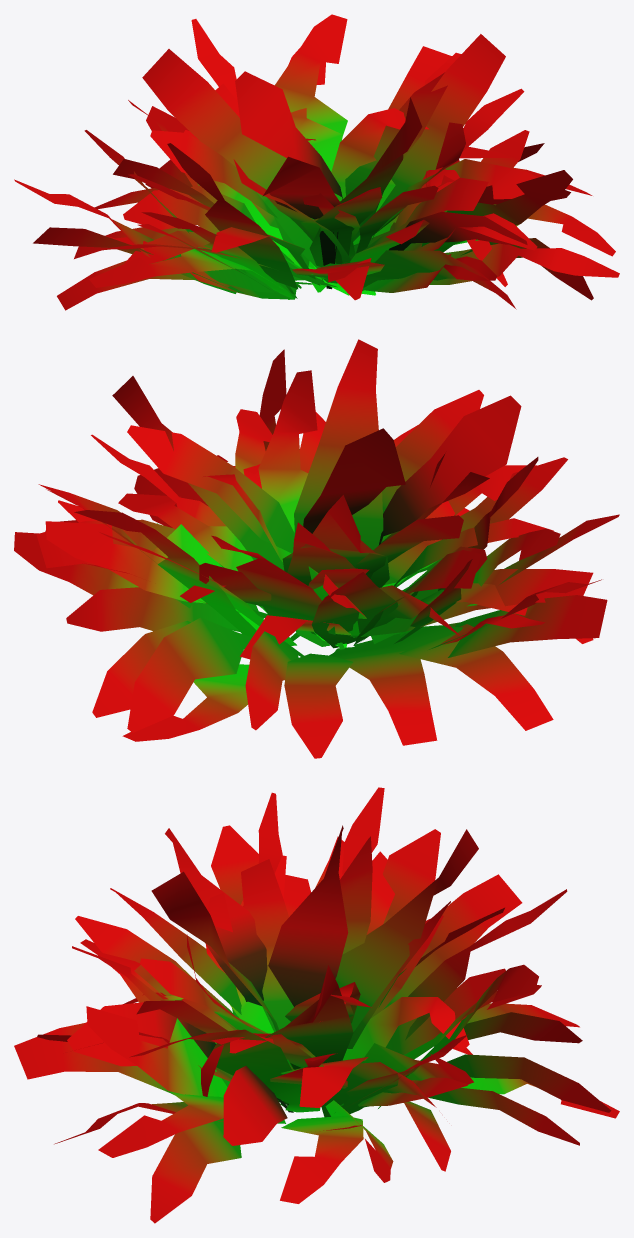
Rendered from Boston Fern_LOD2_Var1_rhDrC.fbx.
3 views of the same model, one above another, from view 1: azimuth 30°, elevation 25°; view 2: azimuth 150°, elevation 25°; view 3: azimuth 270°, elevation 25° (orthographic). The views are drawn at different scales.
Parts seen in each view (by area): view 1: _c4ca_Var1_LOD2; view 2: _c4ca_Var1_LOD2; view 3: _c4ca_Var1_LOD2.
Part boxes in pixels (bbox=[...]): _c4ca_Var1_LOD2: bbox=[14, 14, 619, 310]; _c4ca_Var1_LOD2: bbox=[14, 339, 619, 758]; _c4ca_Var1_LOD2: bbox=[14, 787, 619, 1223].
Bounding box in the file's own units: 12.78 × 5.37 × 11.3.
